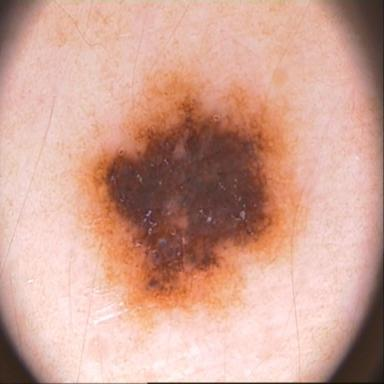nevus: (78, 67, 298, 330)
